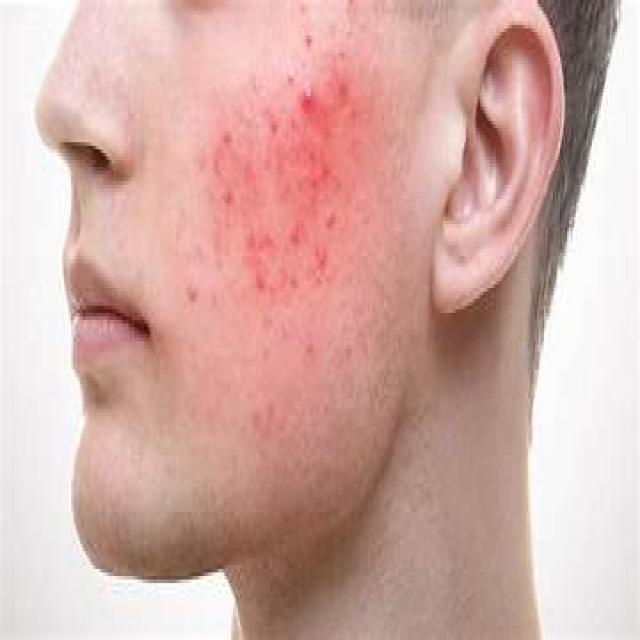Rosacea: (218, 88, 357, 298)
